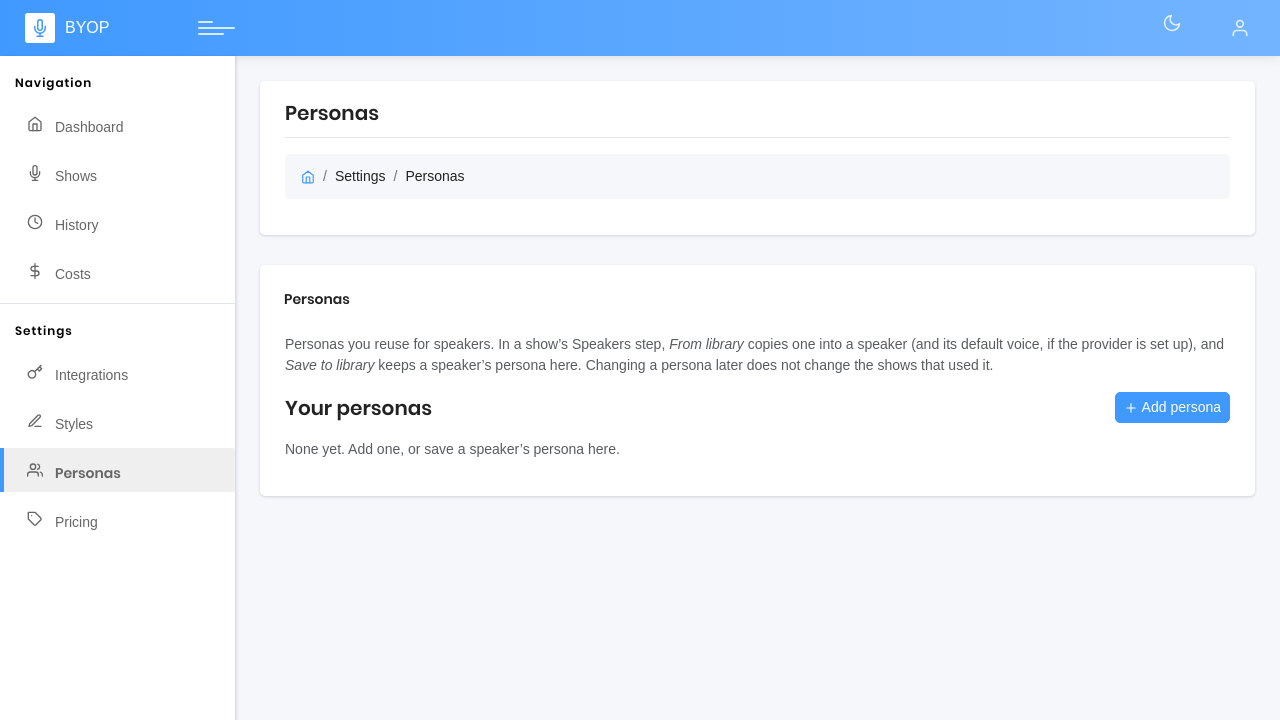
Test: Personas page › fills the persona form from a sentence (Design with AI) and saves nothing until Save
The width and height of the screenshot is (1280, 720).
Expected: the heading "Your personas" is shown, [285,396,432,420]
Click the button "Add persona" at point(1172, 408), box [1115,392,1230,423]
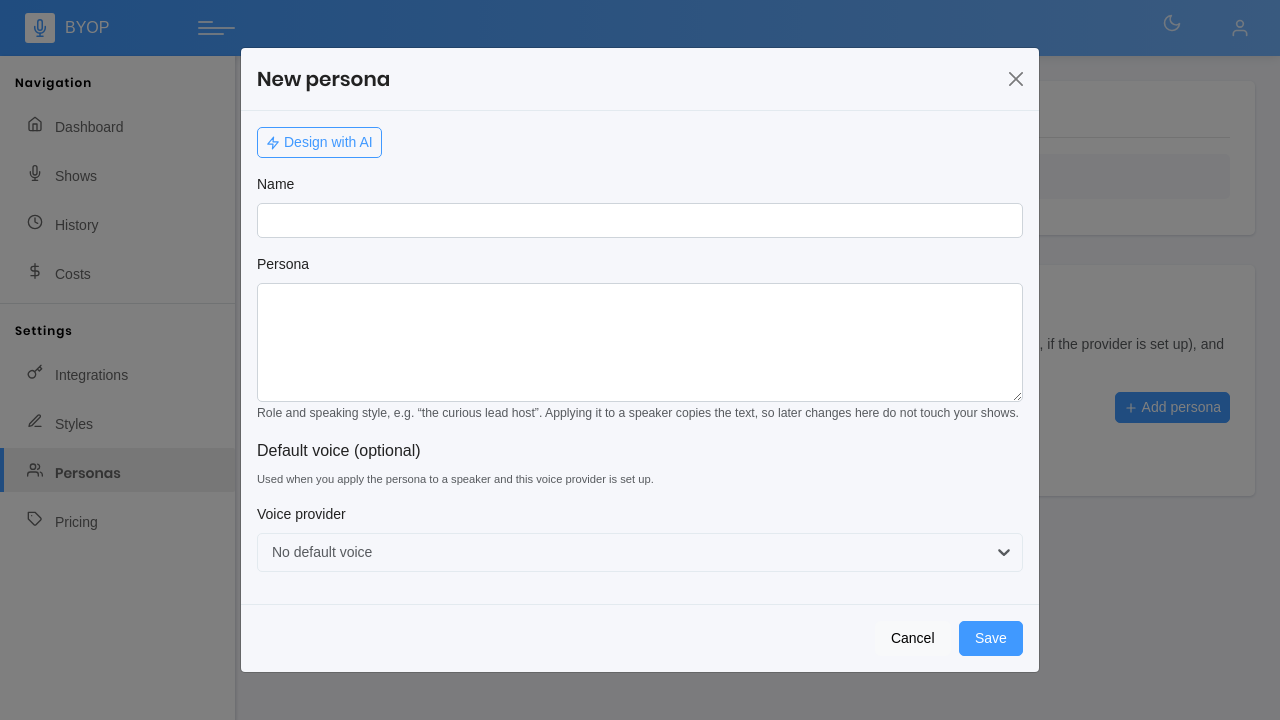
Click the button "Design with AI" at point(319, 143), box [257,127,382,158]
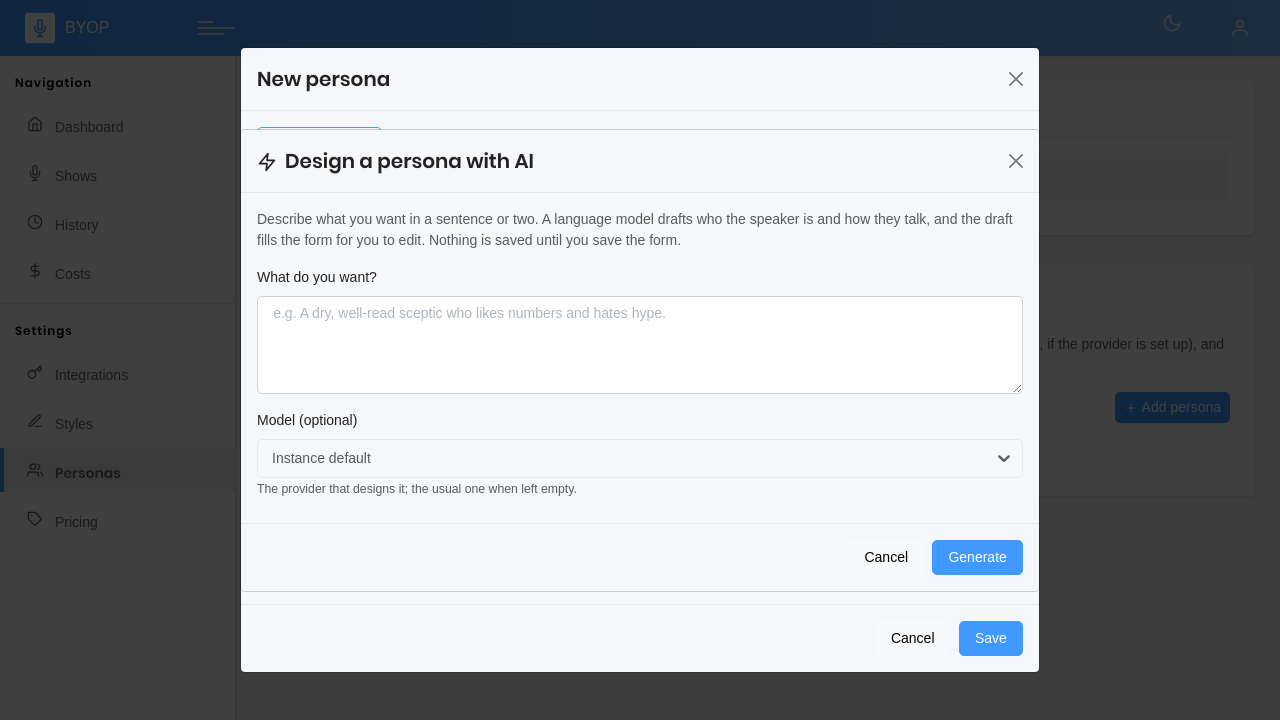
Type "a quiet night owl" into the text box labelled "What do you want?" at point(640, 344), box [257,296,1023,394]
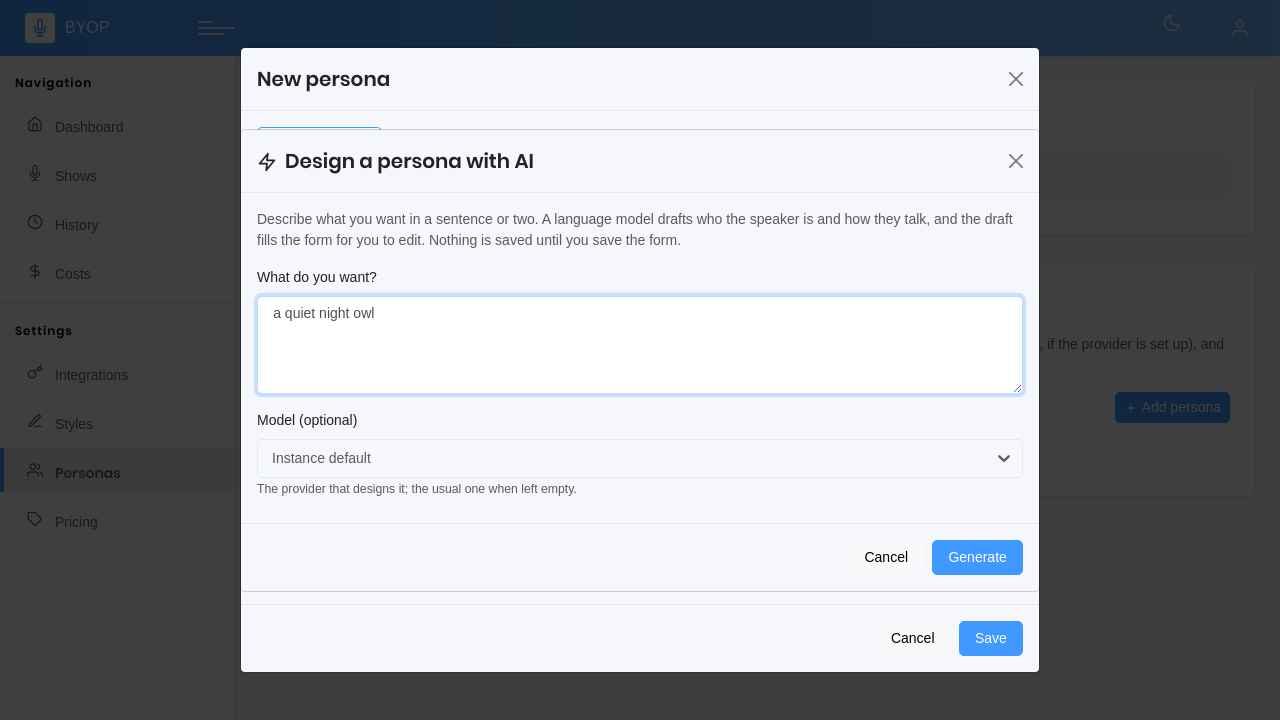
Click the button "Generate" at point(978, 557), box [932,540,1023,574]
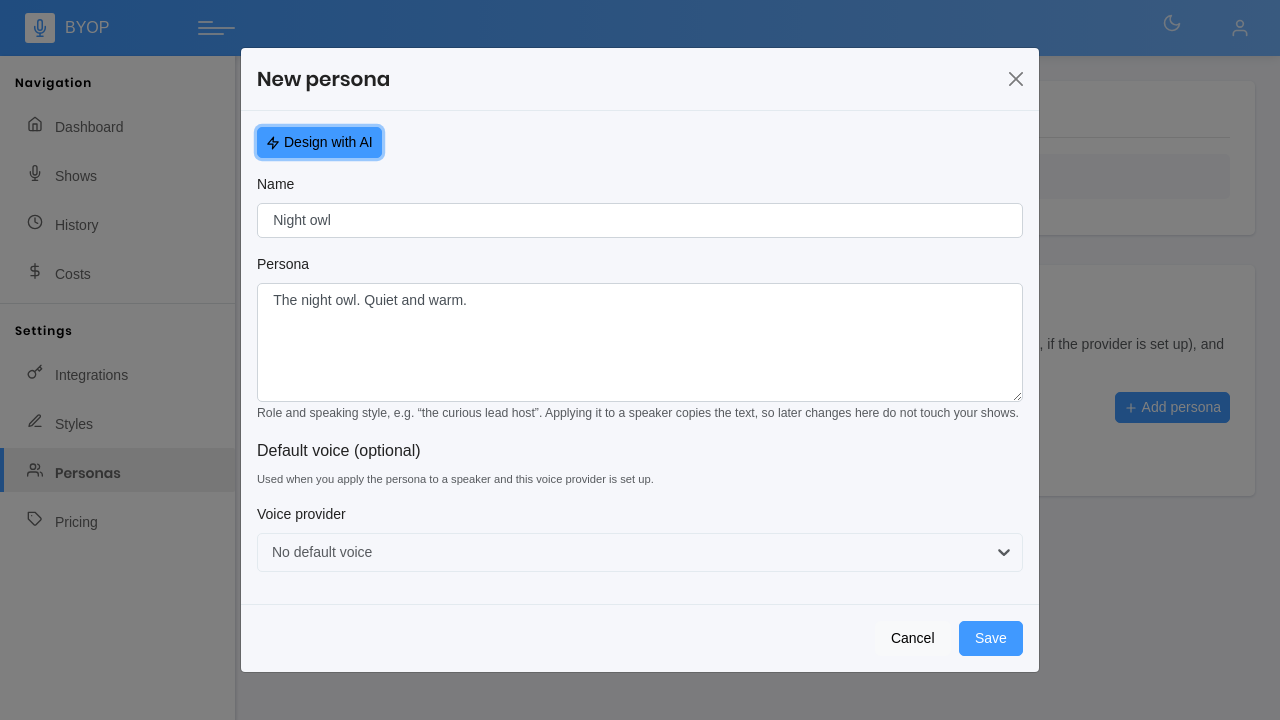
Expected: the heading "Design a persona with AI" is gone
Expected: the field labelled "Name" holds "Night owl", [257,203,1023,238]
Expected: the text box labelled "Persona" holds "The night owl. Quiet and warm.", [257,283,1023,402]
Click the button "Save" at point(991, 638), box [959,621,1023,656]
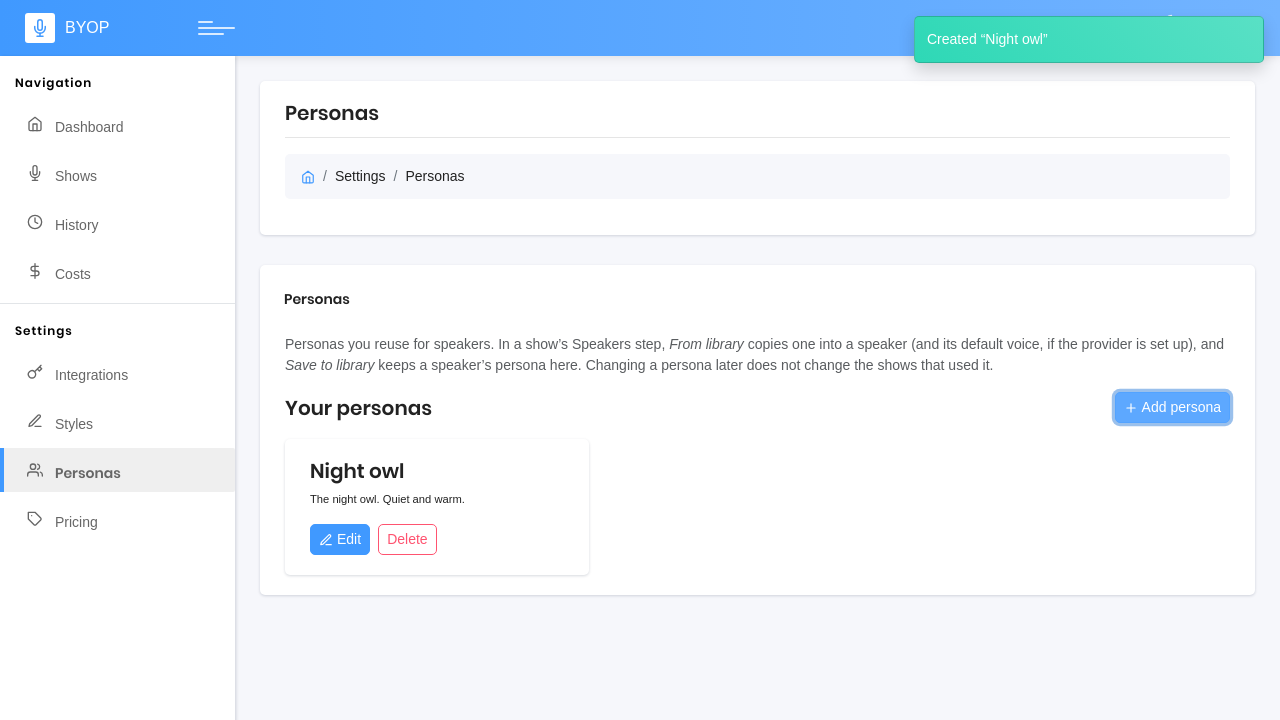
Expected: the element "Night owl" is shown, [285,439,589,575]
